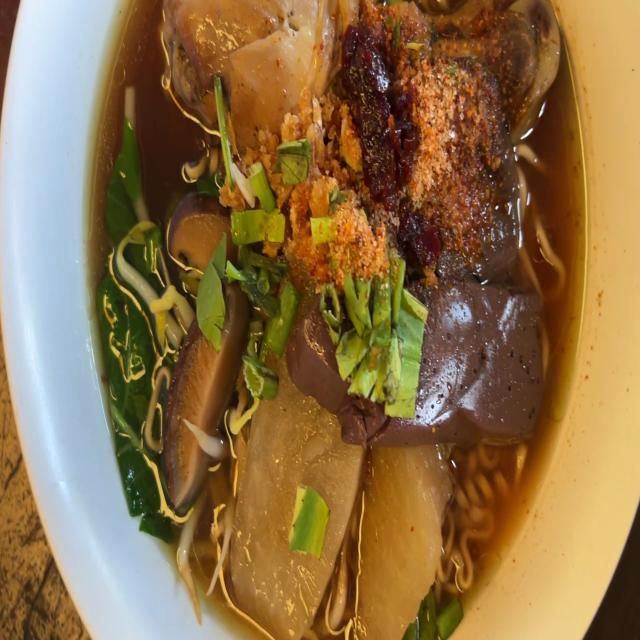noodle: (76, 0, 586, 640)
